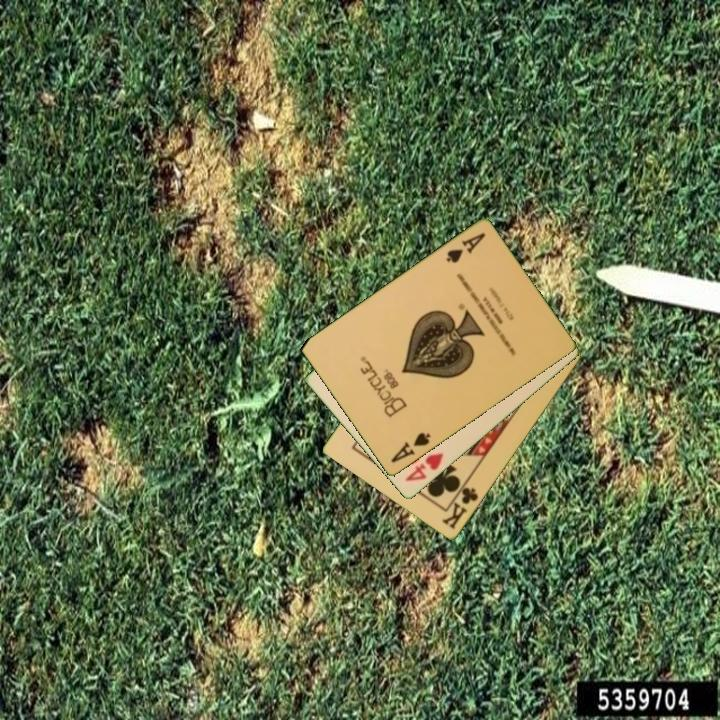4h: (401, 450, 447, 485)
As: (387, 429, 434, 466), (442, 229, 489, 266)
Kc: (438, 478, 481, 532)
